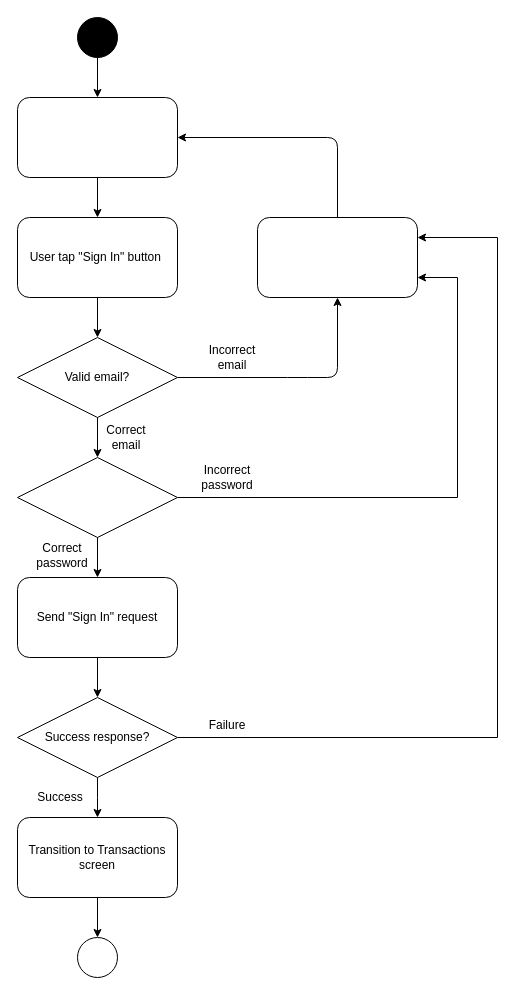
Some shapes in this 523 by 995 pixel diagram are drawn without their labels. Here are the shapes that lost their labels. From the top down, the box of each, then its label:
(16, 96, 178, 178): User enter email and password
(256, 216, 418, 298): Show alert with error
(16, 456, 178, 538): Valid password?
